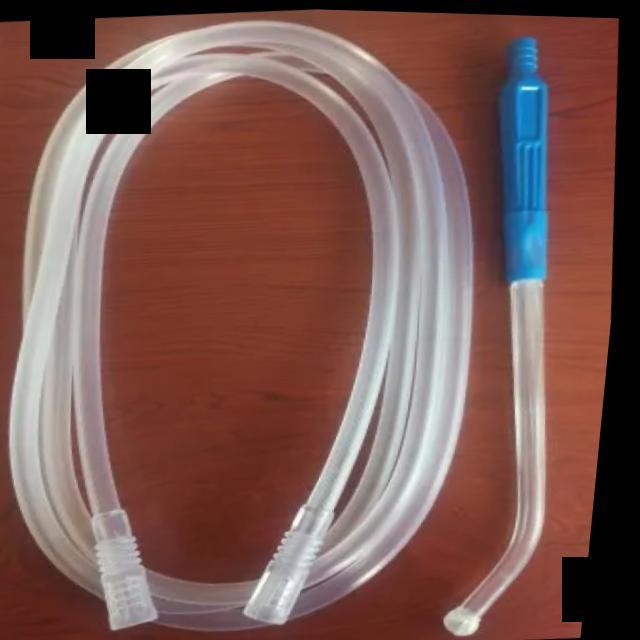Suction Tube Nozzle: (0, 0, 608, 640)
